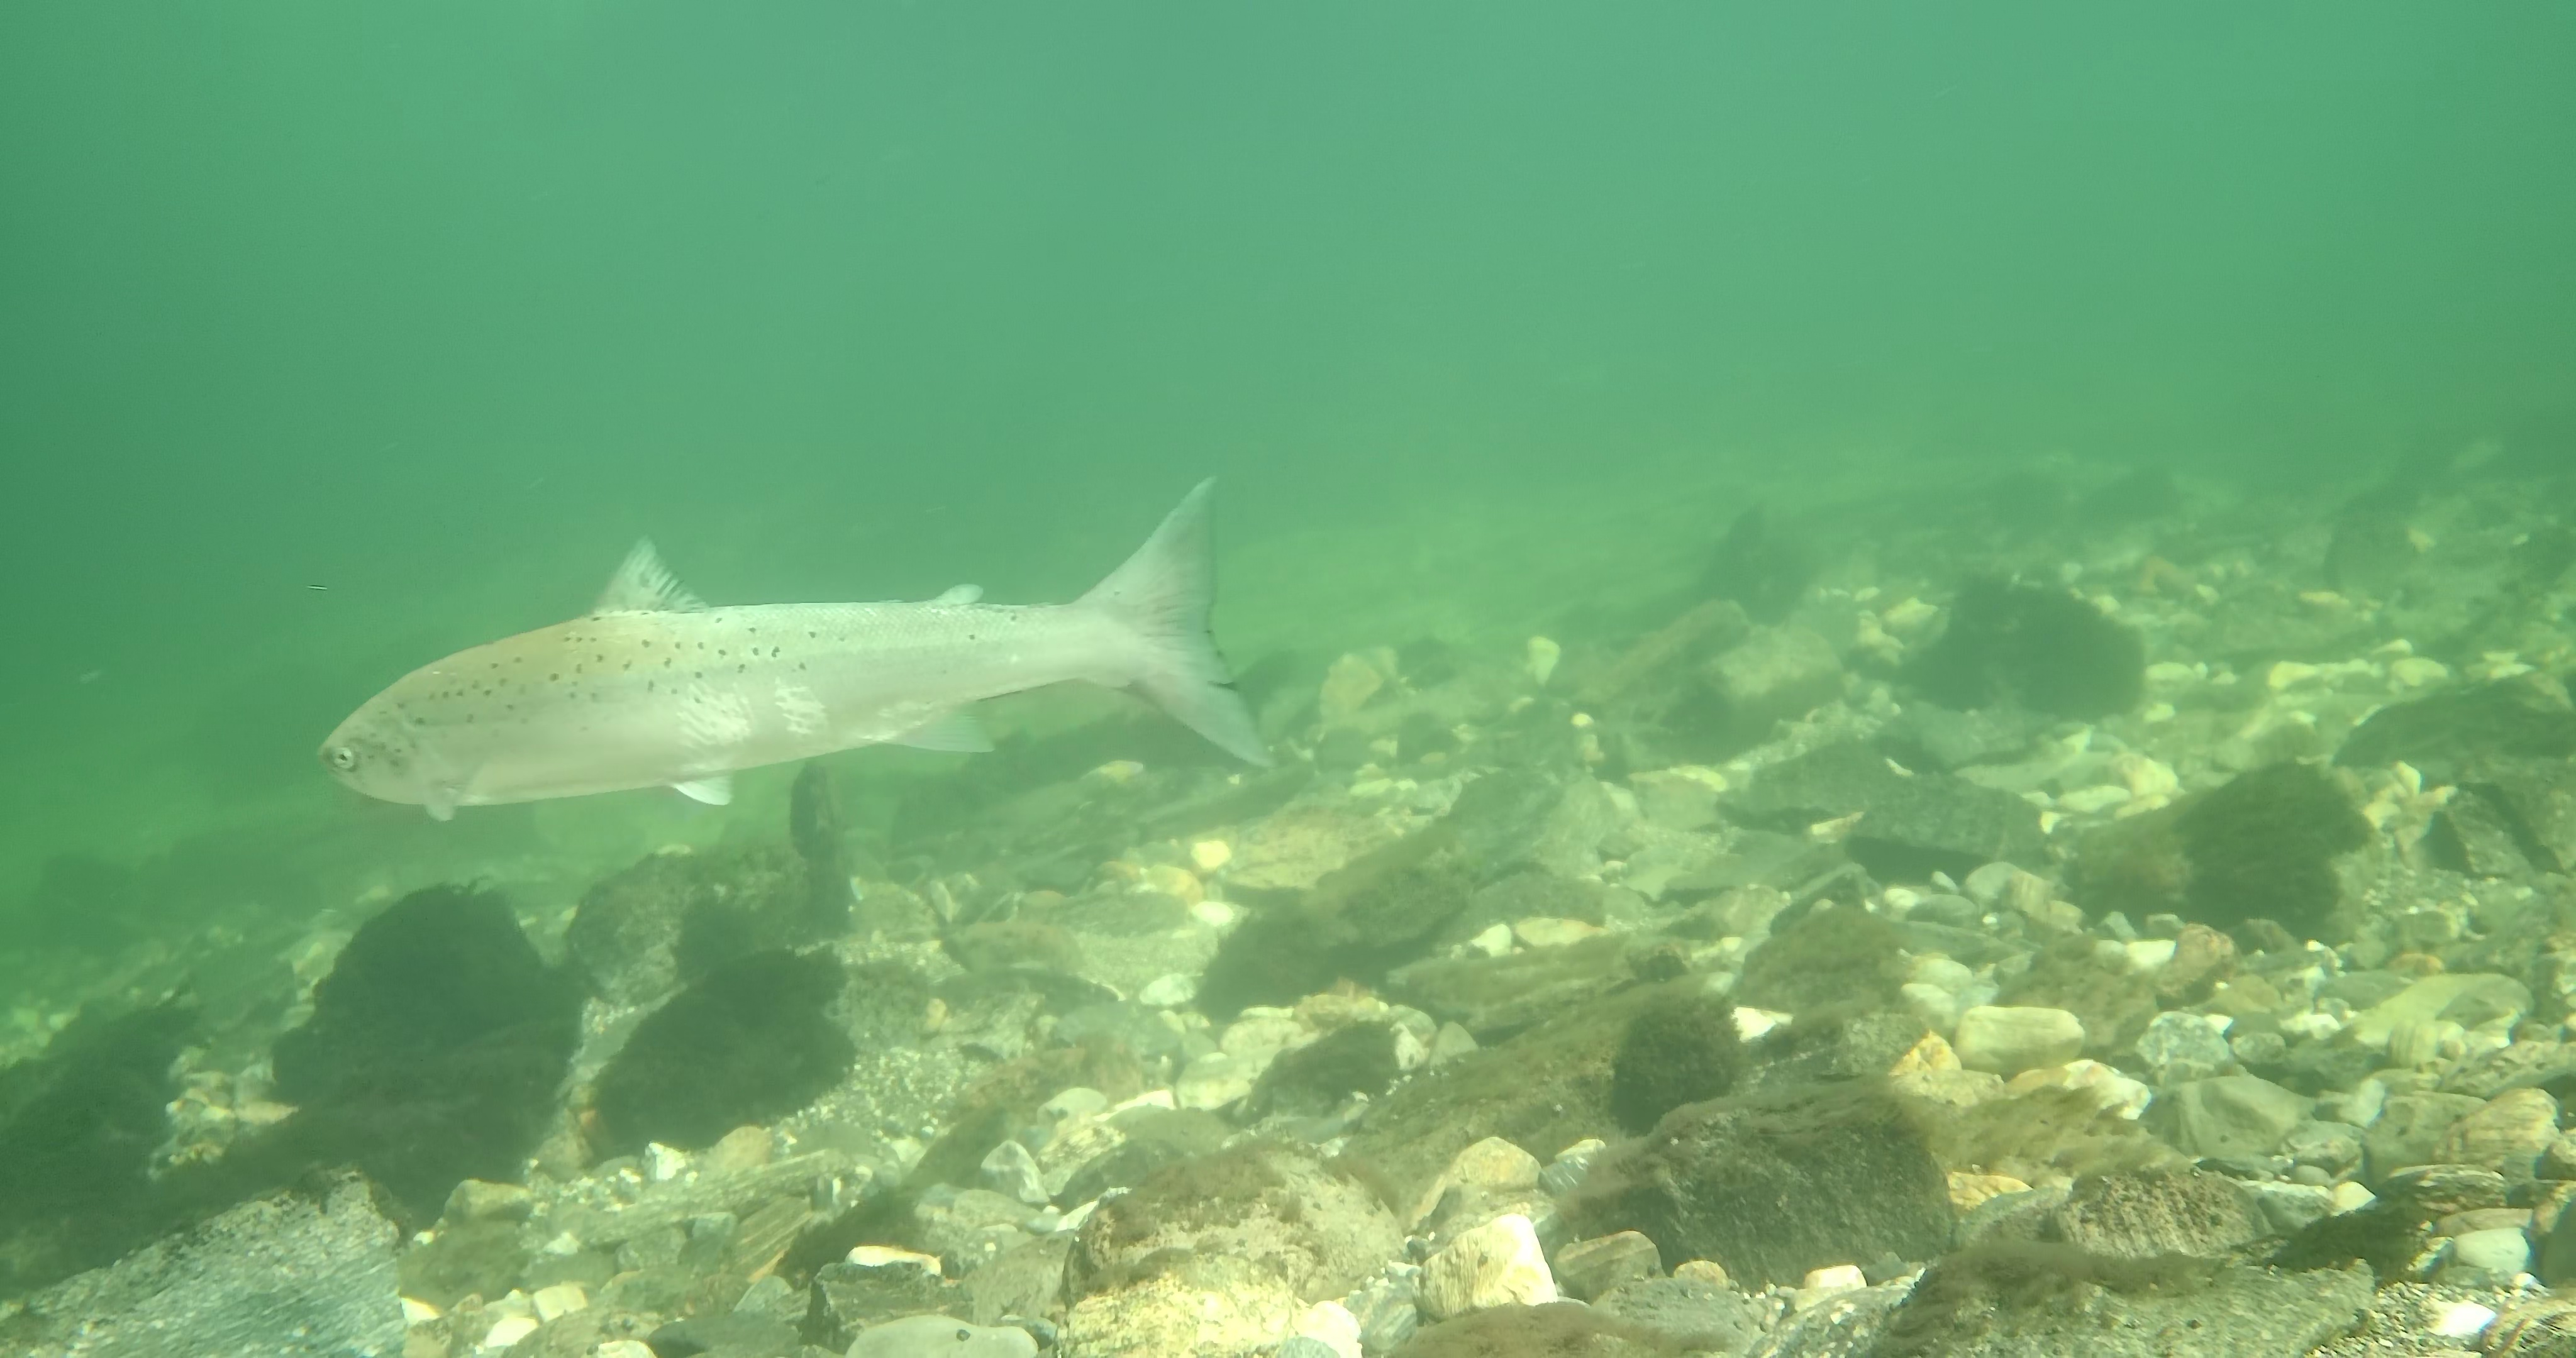salmon: (312, 470, 1278, 823)
